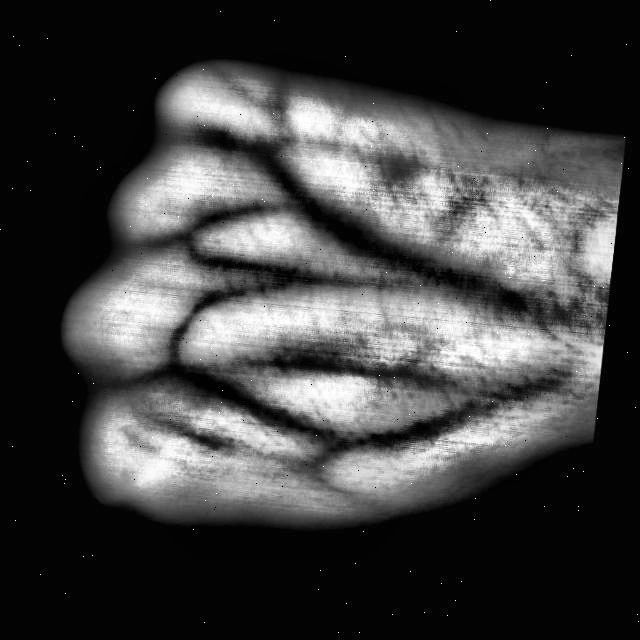Vein: (305, 194, 490, 307), (354, 372, 546, 462)
